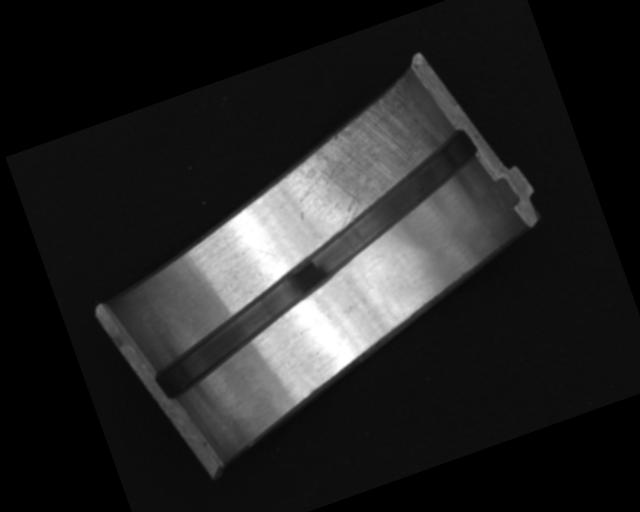gap: (110, 125, 521, 403)
scratch: (274, 77, 455, 240)
